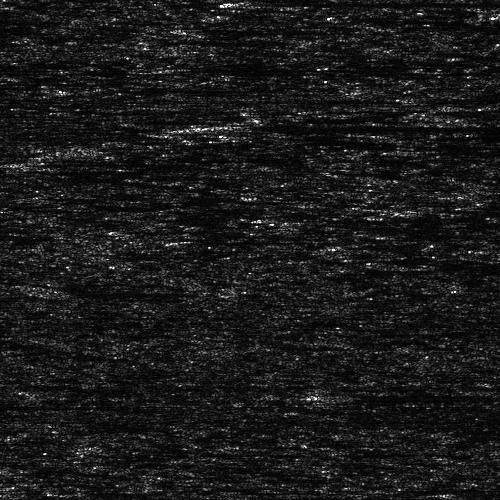object: (127, 61, 210, 74), (164, 123, 269, 132), (177, 493, 312, 499), (186, 0, 291, 5), (7, 280, 80, 287), (386, 146, 439, 155), (277, 392, 330, 399), (0, 161, 48, 164), (27, 288, 38, 295)
shadow: (168, 61, 383, 74), (217, 123, 500, 132), (304, 392, 500, 399), (239, 0, 500, 5), (245, 493, 447, 499), (33, 288, 161, 295), (413, 146, 500, 155), (44, 280, 109, 287), (17, 161, 149, 164)
